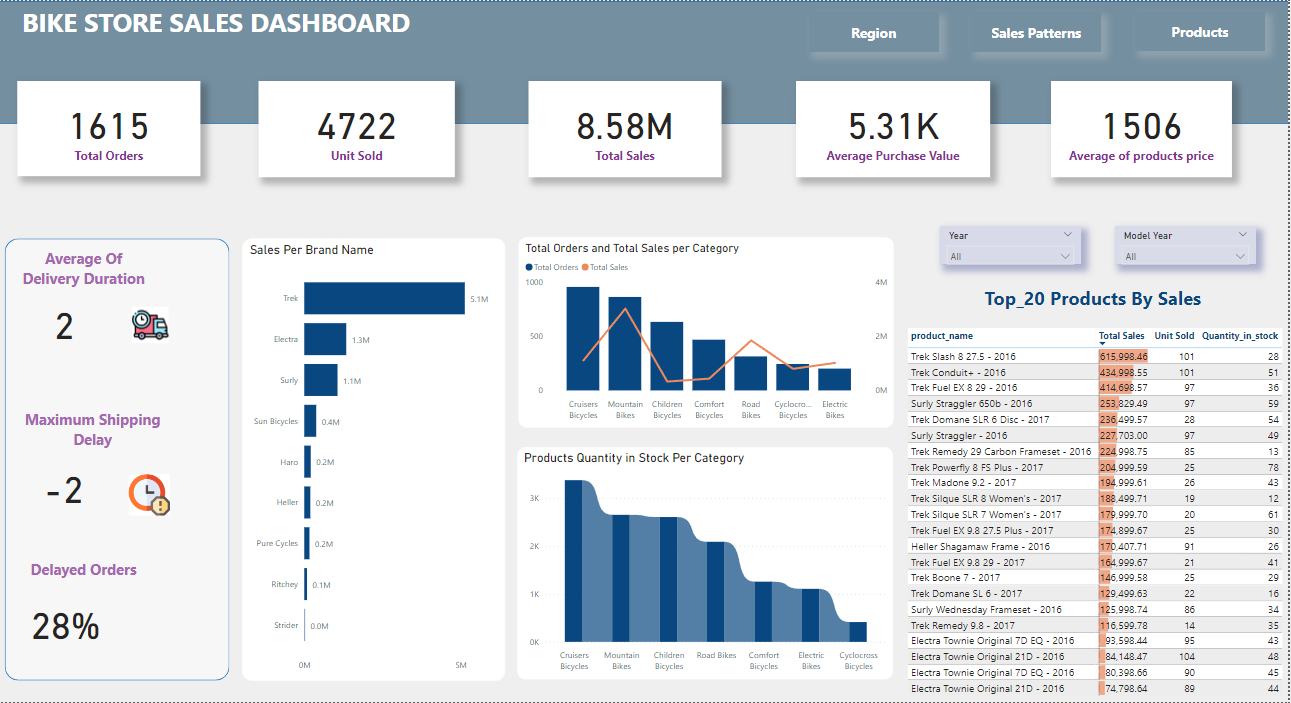

Layout of this report page (visuals, bound fields, positions):
{"tool":"powerbi","page":{"name":"Products","canvas":[1880,1020],"ordinal":2},"visuals":[{"type":"shape","box":[0,0,1880.4,178.6],"z":0},{"type":"textbox","box":[33.3,0,647.4,71.9],"z":1000},{"type":"slicer","fields":{"Values":["Products.model_year"]},"box":[1628.1,328.1,205.3,56.1],"z":2000},{"type":"card","fields":{"Values":["DAX_Measures.Total Orders"]},"box":[31.6,115.8,266.7,138.6],"z":3000},{"type":"card","fields":{"Values":["DAX_Measures.Unit Sold"]},"box":[382.5,115.8,286,140.4],"z":4000},{"type":"card","fields":{"Values":["DAX_Measures.Average Purchase Value"]},"box":[1163.2,115.8,282.5,140.4],"z":5000},{"type":"shape","box":[12.5,344.6,326.8,642.9],"z":6000},{"type":"card","fields":{"Values":["Avg(Orders.Delivery Duration)"]},"box":[32.1,428.6,133.9,73.2],"z":7000},{"type":"card","fields":{"Values":["Min(Orders.Shipping Delay)"]},"box":[28.6,666.1,137.5,76.8],"z":8000},{"type":"card","fields":{"Values":["DAX_Measures.Count of orders get delay"]},"box":[32.1,866.1,137.5,73.2],"z":9000},{"type":"card","fields":{"Values":["DAX_Measures.Total Sales"]},"box":[773.7,115.8,280.7,140.4],"z":10000},{"type":"clusteredBarChart","title":"Sales Per Brand Name","fields":{"Y":["DAX_Measures.Total Sales"],"Category":["Query1.brand_name"]},"box":[358.9,344.6,382.1,642.9],"z":11000},{"type":"ribbonChart","title":"Products Quantity in Stock Per Category","fields":{"Category":["Query1.category_name"],"Y":["Sum(Query1.Quantity_in_stock)"]},"box":[758.9,650,546.4,337.5],"z":12000},{"type":"tableEx","fields":{"Values":["Query1.product_name","DAX_Measures.Total Sales","DAX_Measures.Unit Sold","Sum(Query1.Quantity_in_stock)"]},"box":[1319.3,470.2,556.1,549.1],"z":13000},{"type":"slicer","fields":{"Values":["Orders.Order Year"]},"box":[1371.9,328.1,205.3,56.1],"z":14000},{"type":"lineClusteredColumnComboChart","title":"Total Orders and Total Sales per Category","fields":{"Y":["DAX_Measures.Total Orders"],"Y2":["DAX_Measures.Total Sales"],"Category":["Query1.category_name"]},"box":[758.9,344.6,546.4,276.8],"z":15000},{"type":"textbox","box":[1393,408.8,405.3,61.4],"z":16000},{"type":"textbox","box":[28.6,355.4,196.4,73.2],"z":17000},{"type":"textbox","box":[12.5,589.3,255.4,94.6],"z":18000},{"type":"image","box":[164.3,439.3,121.4,62.5],"z":19000},{"type":"image","box":[150,683.9,148.2,69.6],"z":20000},{"type":"textbox","box":[21.4,807.1,210.7,58.9],"z":21000},{"type":"card","fields":{"Values":["DAX_Measures.Average of products price"]},"box":[1535.1,115.8,263.2,140.4],"z":22000},{"type":"actionButton","box":[1656.1,14,189.5,57.9],"z":23000},{"type":"actionButton","box":[1182.5,15.8,189.5,57.9],"z":24000},{"type":"actionButton","box":[1417.5,15.8,189.5,57.9],"z":25000}]}

Visuals, with their boxes in screenshot pixels (x1, y1, x2, y2), scaled from the page's 1880x1020 canvas onto the 1291x703 screenshot:
shape: x1=0, y1=0, x2=1290, y2=123
textbox: x1=23, y1=0, x2=467, y2=50
slicer - Products.model_year: x1=1118, y1=226, x2=1259, y2=265
card - DAX_Measures.Total Orders: x1=22, y1=80, x2=205, y2=175
card - DAX_Measures.Unit Sold: x1=263, y1=80, x2=459, y2=177
card - DAX_Measures.Average Purchase Value: x1=799, y1=80, x2=993, y2=177
shape: x1=9, y1=238, x2=233, y2=681
card - Avg(Orders.Delivery Duration): x1=22, y1=295, x2=114, y2=346
card - Min(Orders.Shipping Delay): x1=20, y1=459, x2=114, y2=512
card - DAX_Measures.Count of orders get delay: x1=22, y1=597, x2=116, y2=647
card - DAX_Measures.Total Sales: x1=531, y1=80, x2=724, y2=177
"Sales Per Brand Name" clusteredBarChart: x1=246, y1=238, x2=509, y2=681
"Products Quantity in Stock Per Category" ribbonChart: x1=521, y1=448, x2=896, y2=681
tableEx - Query1.product_name x DAX_Measures.Total Sales: x1=906, y1=324, x2=1288, y2=702
slicer - Orders.Order Year: x1=942, y1=226, x2=1083, y2=265
"Total Orders and Total Sales per Category" lineClusteredColumnComboChart: x1=521, y1=238, x2=896, y2=428
textbox: x1=957, y1=282, x2=1235, y2=324
textbox: x1=20, y1=245, x2=155, y2=295
textbox: x1=9, y1=406, x2=184, y2=471
image: x1=113, y1=303, x2=196, y2=346
image: x1=103, y1=471, x2=205, y2=519
textbox: x1=15, y1=556, x2=159, y2=597
card - DAX_Measures.Average of products price: x1=1054, y1=80, x2=1235, y2=177
actionButton: x1=1137, y1=10, x2=1267, y2=50
actionButton: x1=812, y1=11, x2=942, y2=51
actionButton: x1=973, y1=11, x2=1104, y2=51
